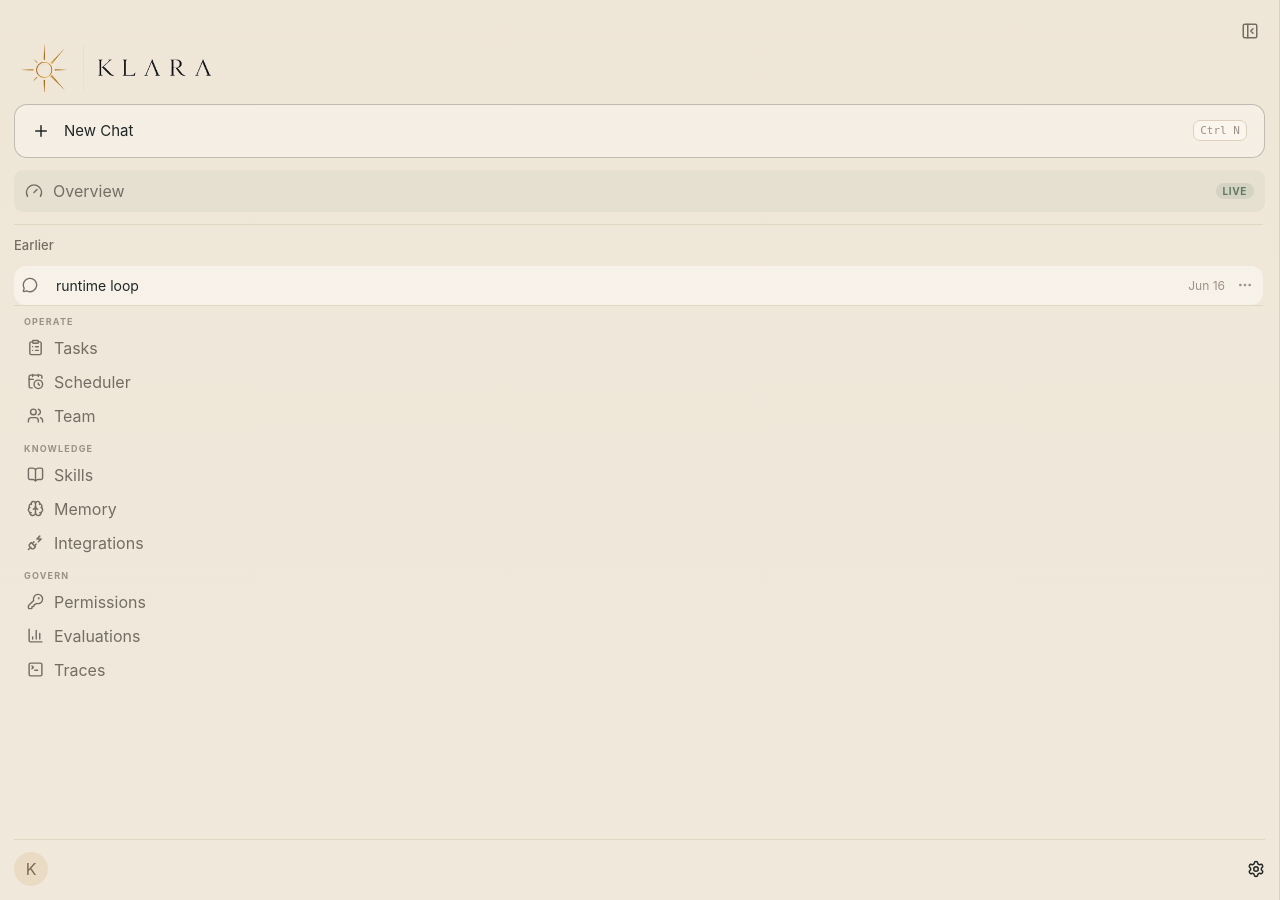
Test: popover dismissal › closes the conversation delete confirmation from outside click and Escape
This screenshot has width=1280, height=900.
Click the heading named "Conversation actions" at (1245, 285), box [1237,277,1253,293]
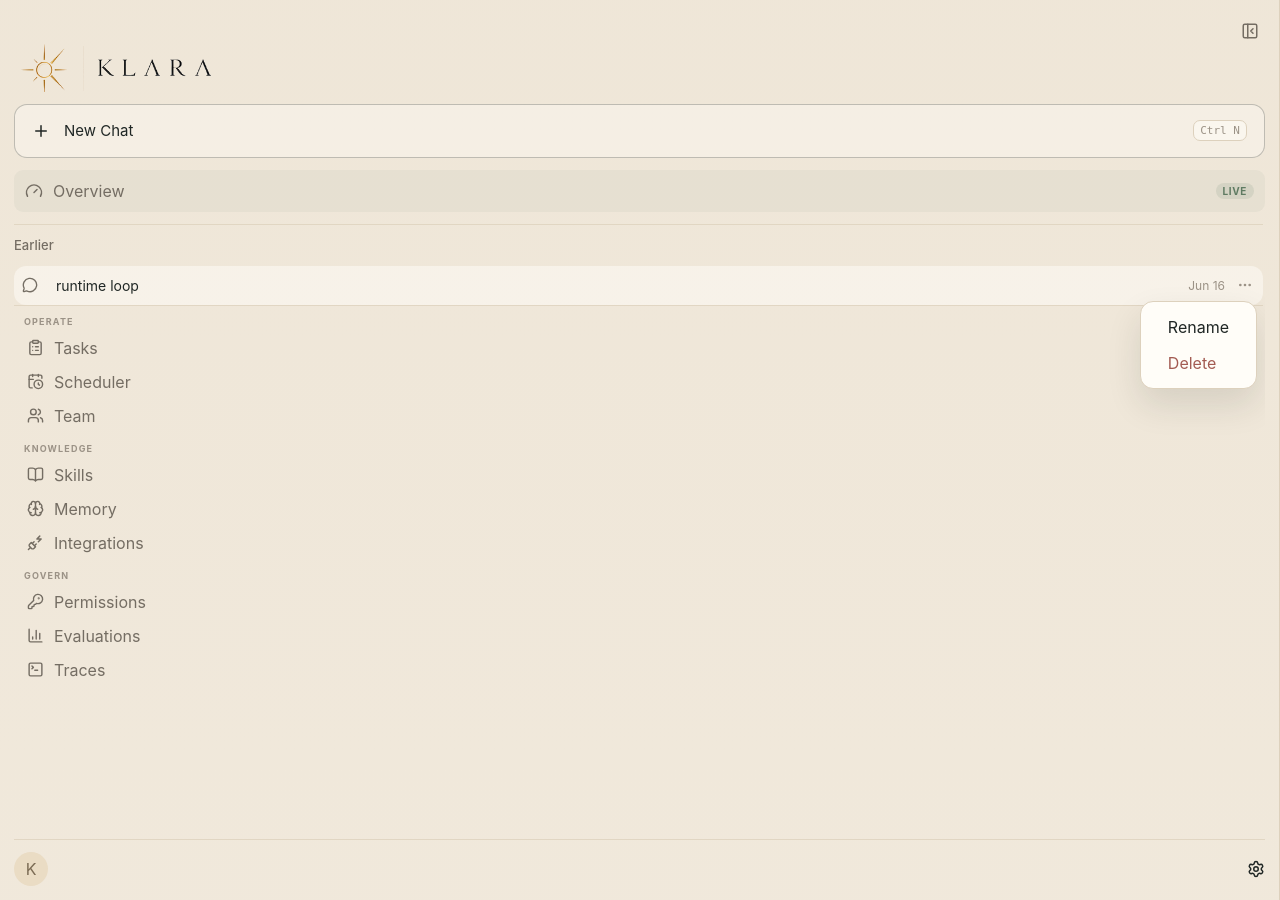
Click the button "Delete" at (1198, 363), box [1148,345,1249,381]
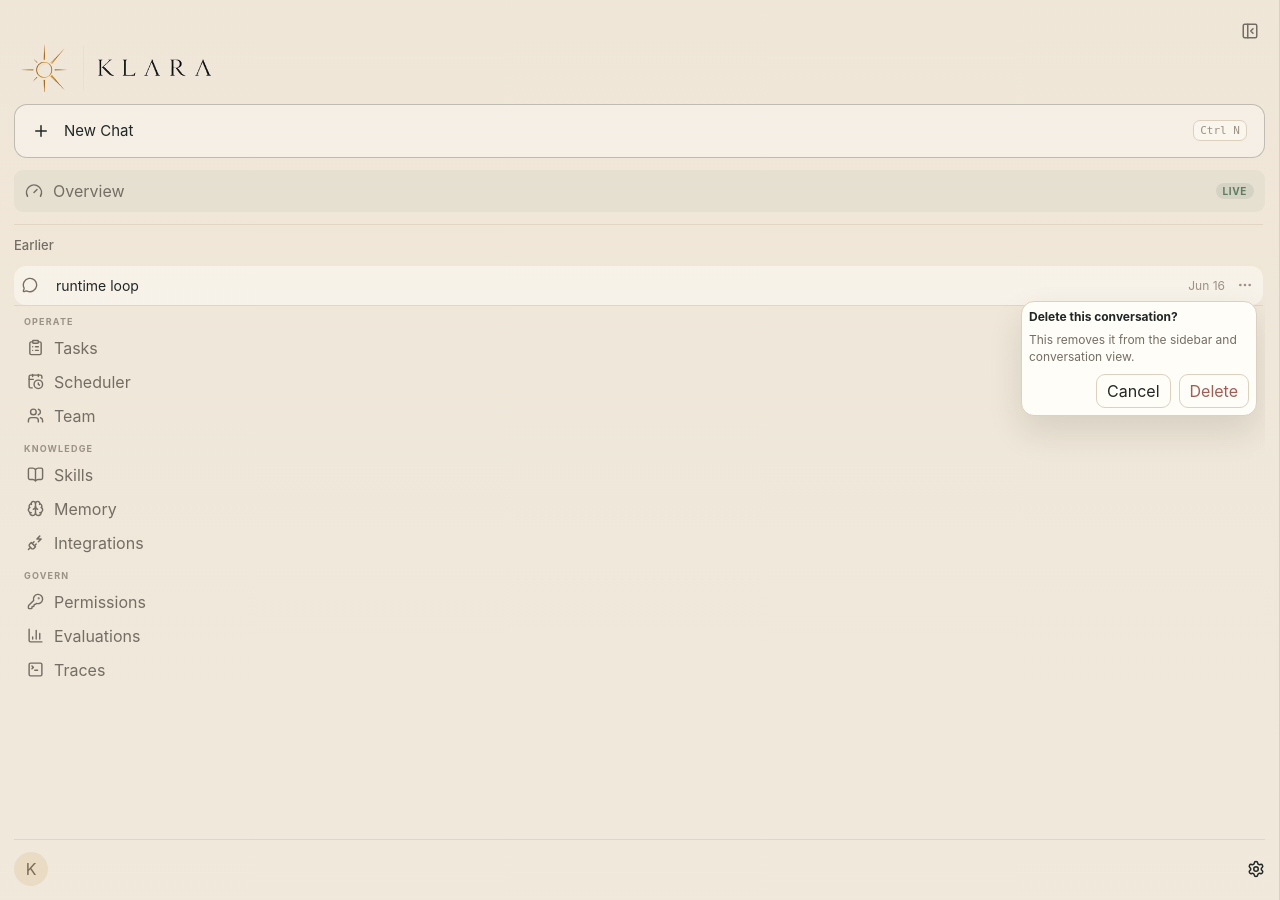
Expected: the text "Delete this conversation?" is shown, [1029,309,1178,324]
Click the element that starts with "New Chat" at (640, 450), box [0,0,1279,899]
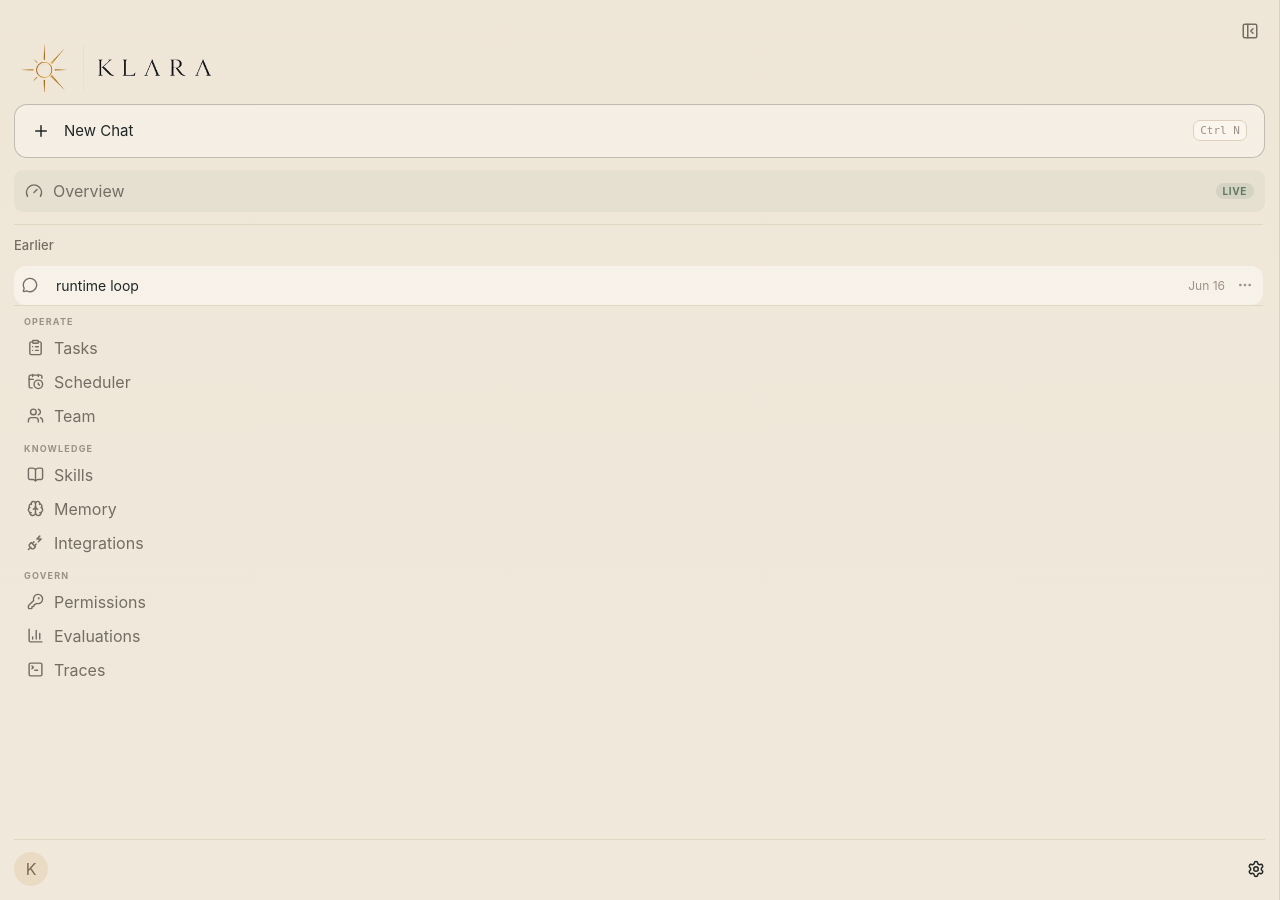
Expected: the text "Delete this conversation?" is gone
Click the heading named "Conversation actions" at (1245, 285), box [1237,277,1253,293]
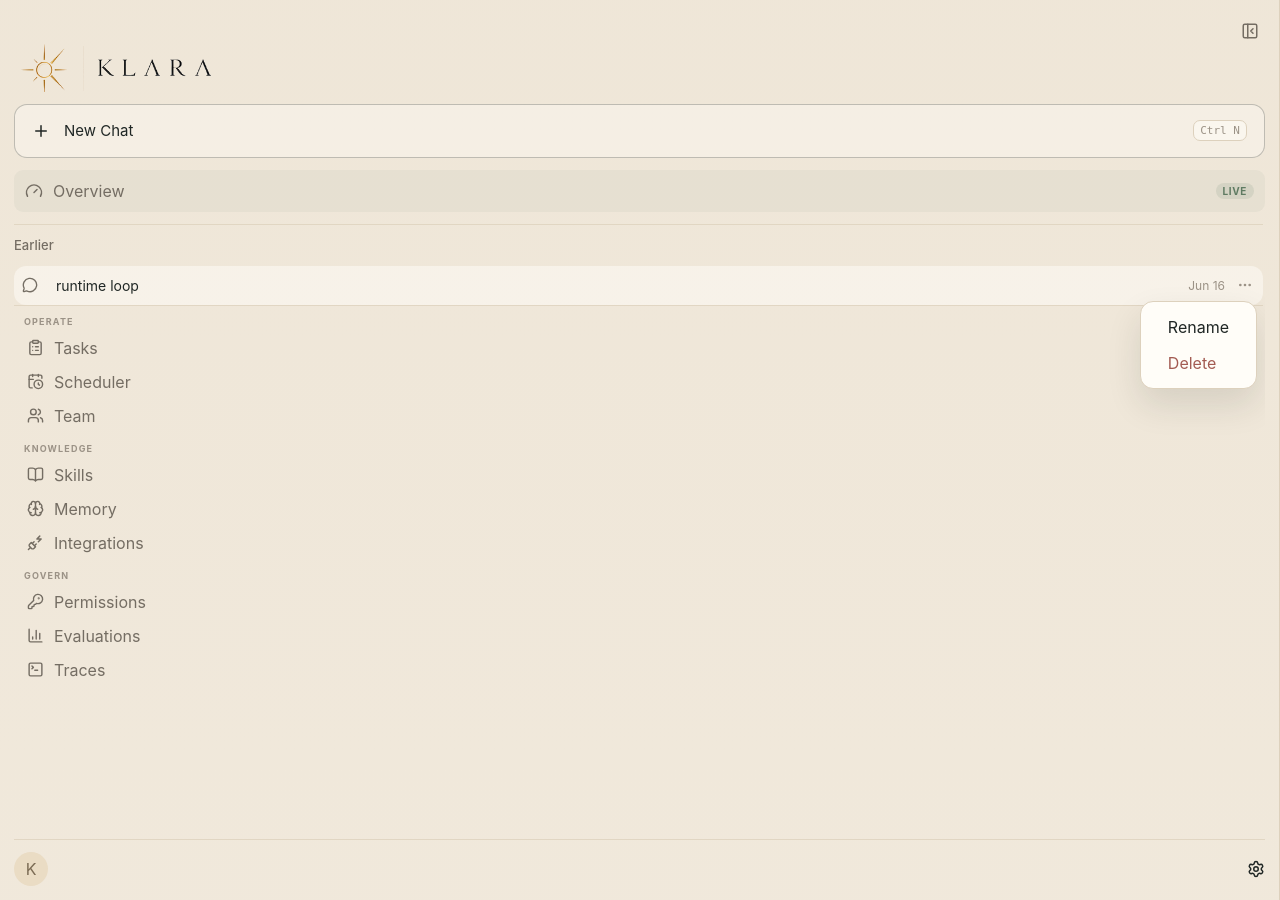
Click the button "Delete" at (1198, 363), box [1148,345,1249,381]
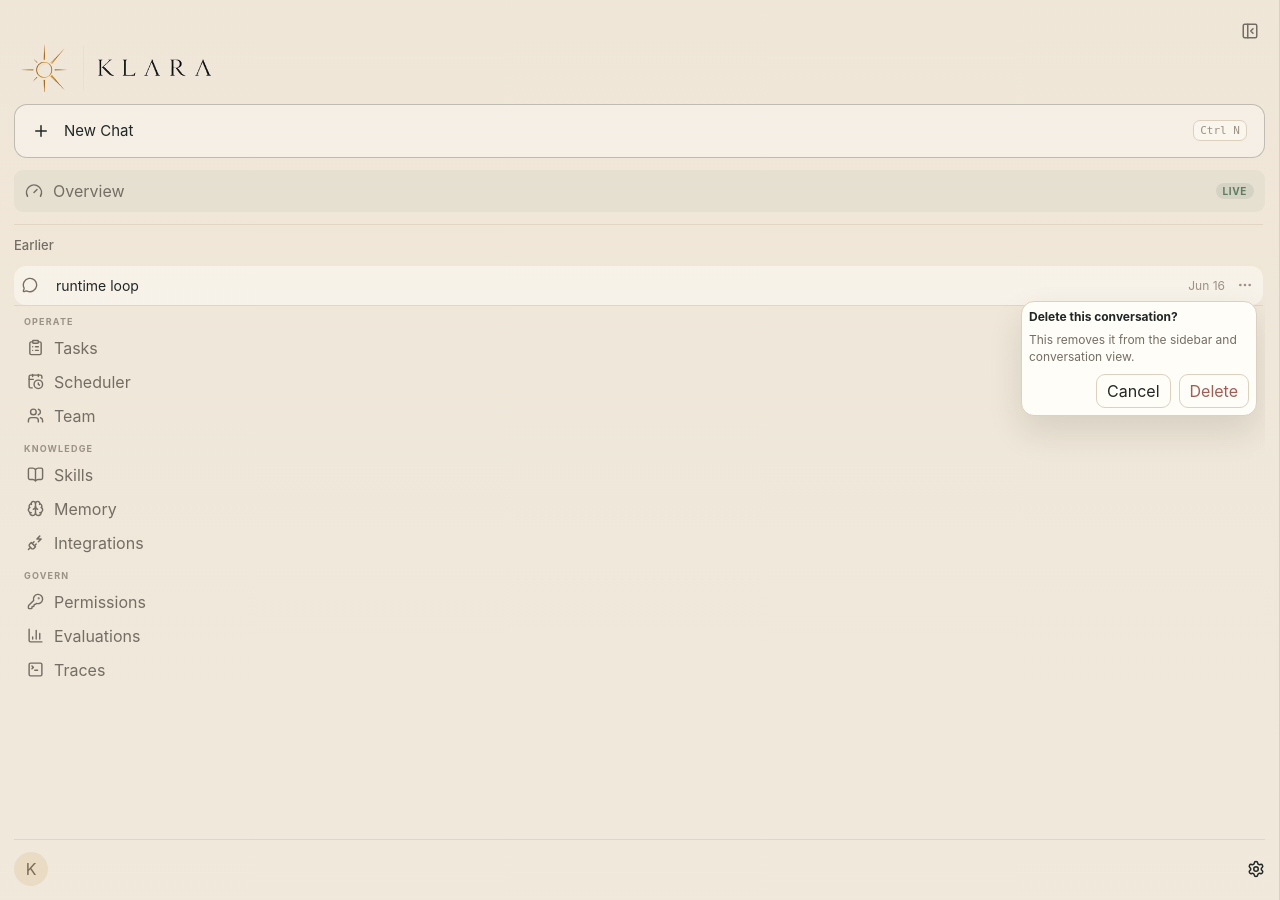
Press Escape
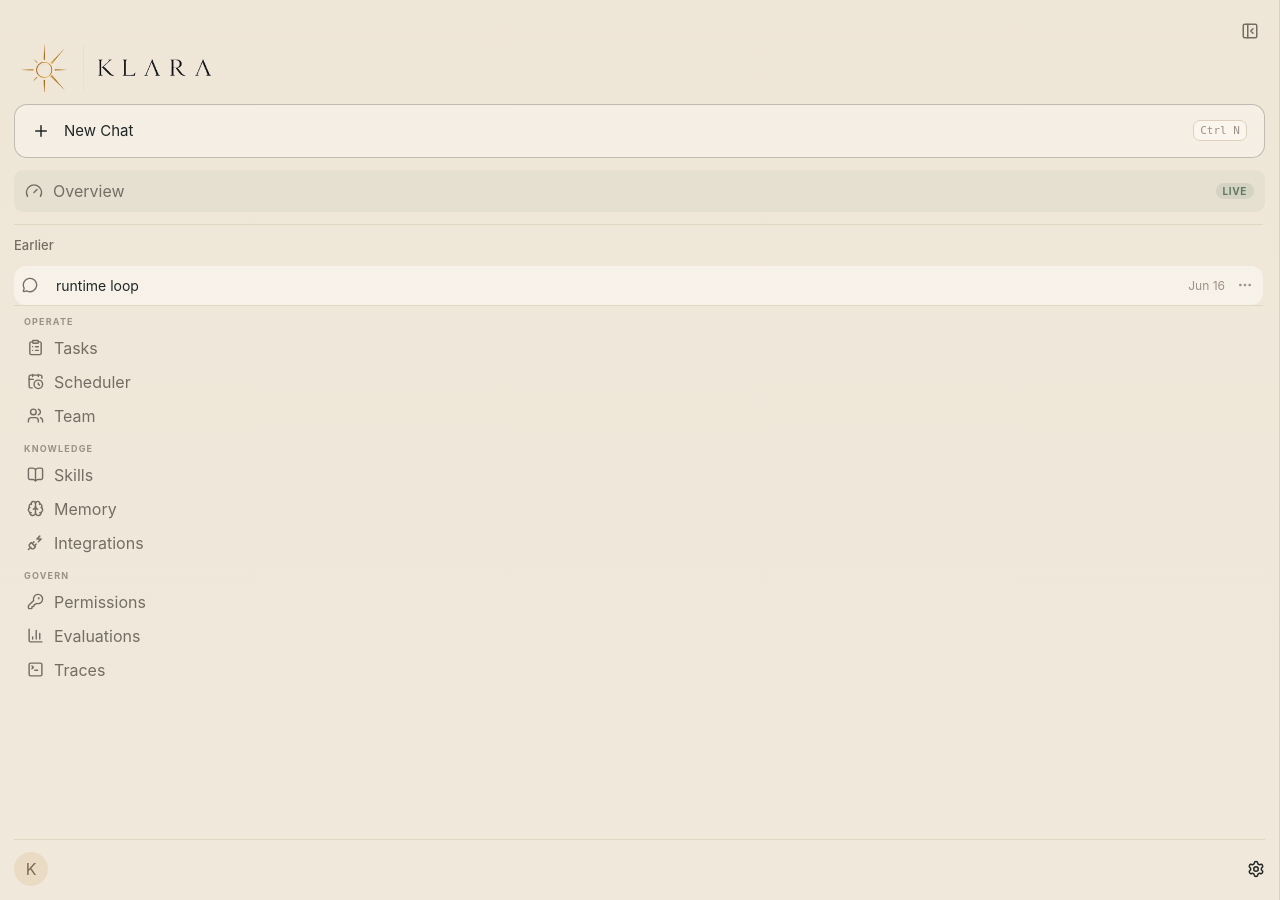
Expected: the text "Delete this conversation?" is gone
